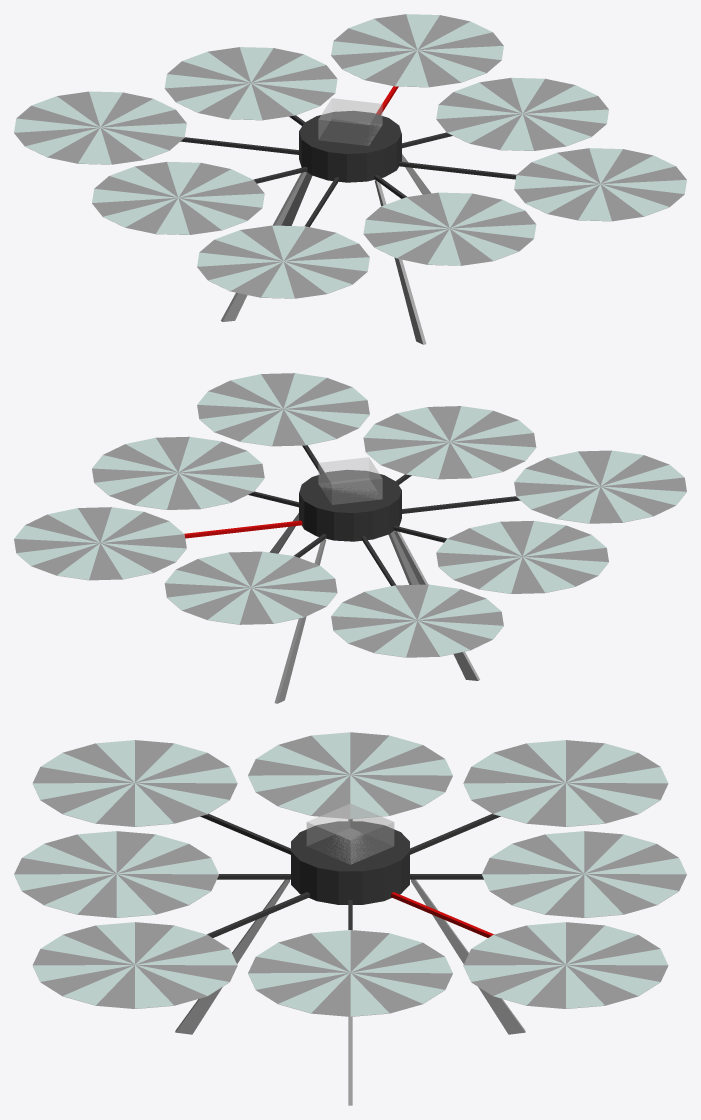
Rendered from octorotor_base.dae.
The picture shows the model from 3 angles, top to bottom: view 1: azimuth 30°, elevation 25°; view 2: azimuth 150°, elevation 25°; view 3: azimuth 270°, elevation 25°; orthographic projection. The views are drawn at different scales.
Visible parts, largest first — view 1: Cone_008; view 2: Cone_008; view 3: Cone_008.
Boxes of the visible parts, x1,y1,x2,y2 form: Cone_008: (14, 14, 686, 344); Cone_008: (14, 373, 686, 703); Cone_008: (14, 732, 686, 1105).
Size of the model in its own units: 0.9998 by 0.9998 by 0.3473.
